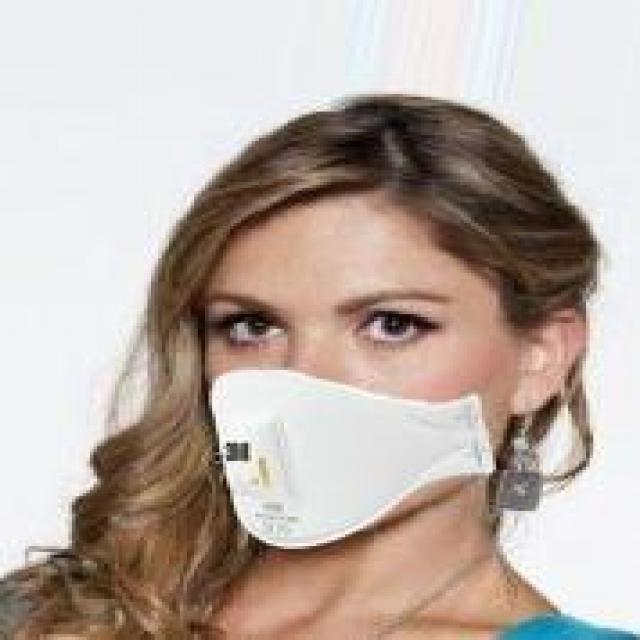mask: (133, 79, 590, 570)
